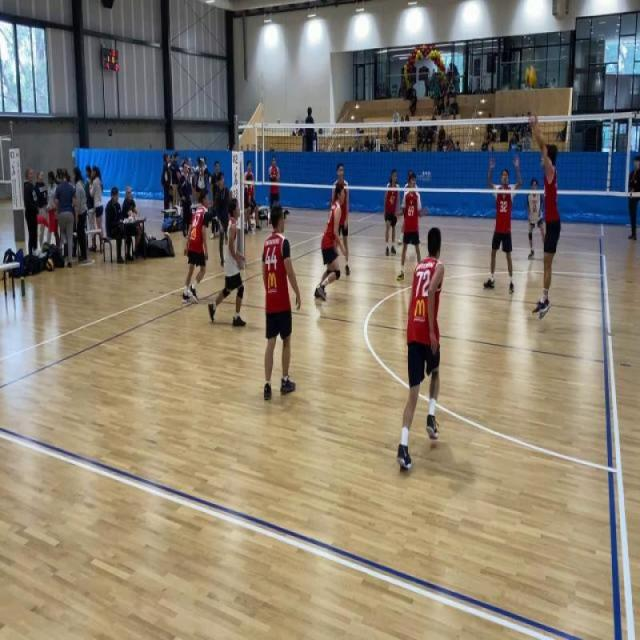volleyball: (523, 64, 538, 88), (46, 257, 54, 272), (163, 231, 170, 238), (147, 234, 154, 241), (276, 117, 281, 124)
